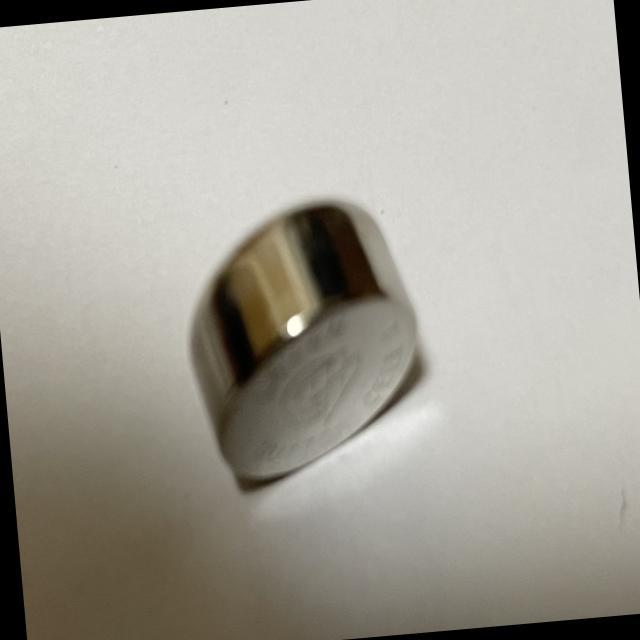COIN: (176, 190, 430, 493)
